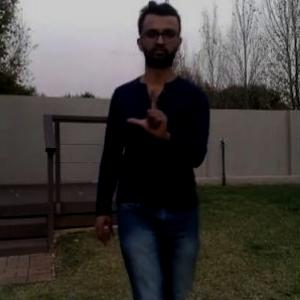land_hand: (125, 81, 172, 142)
